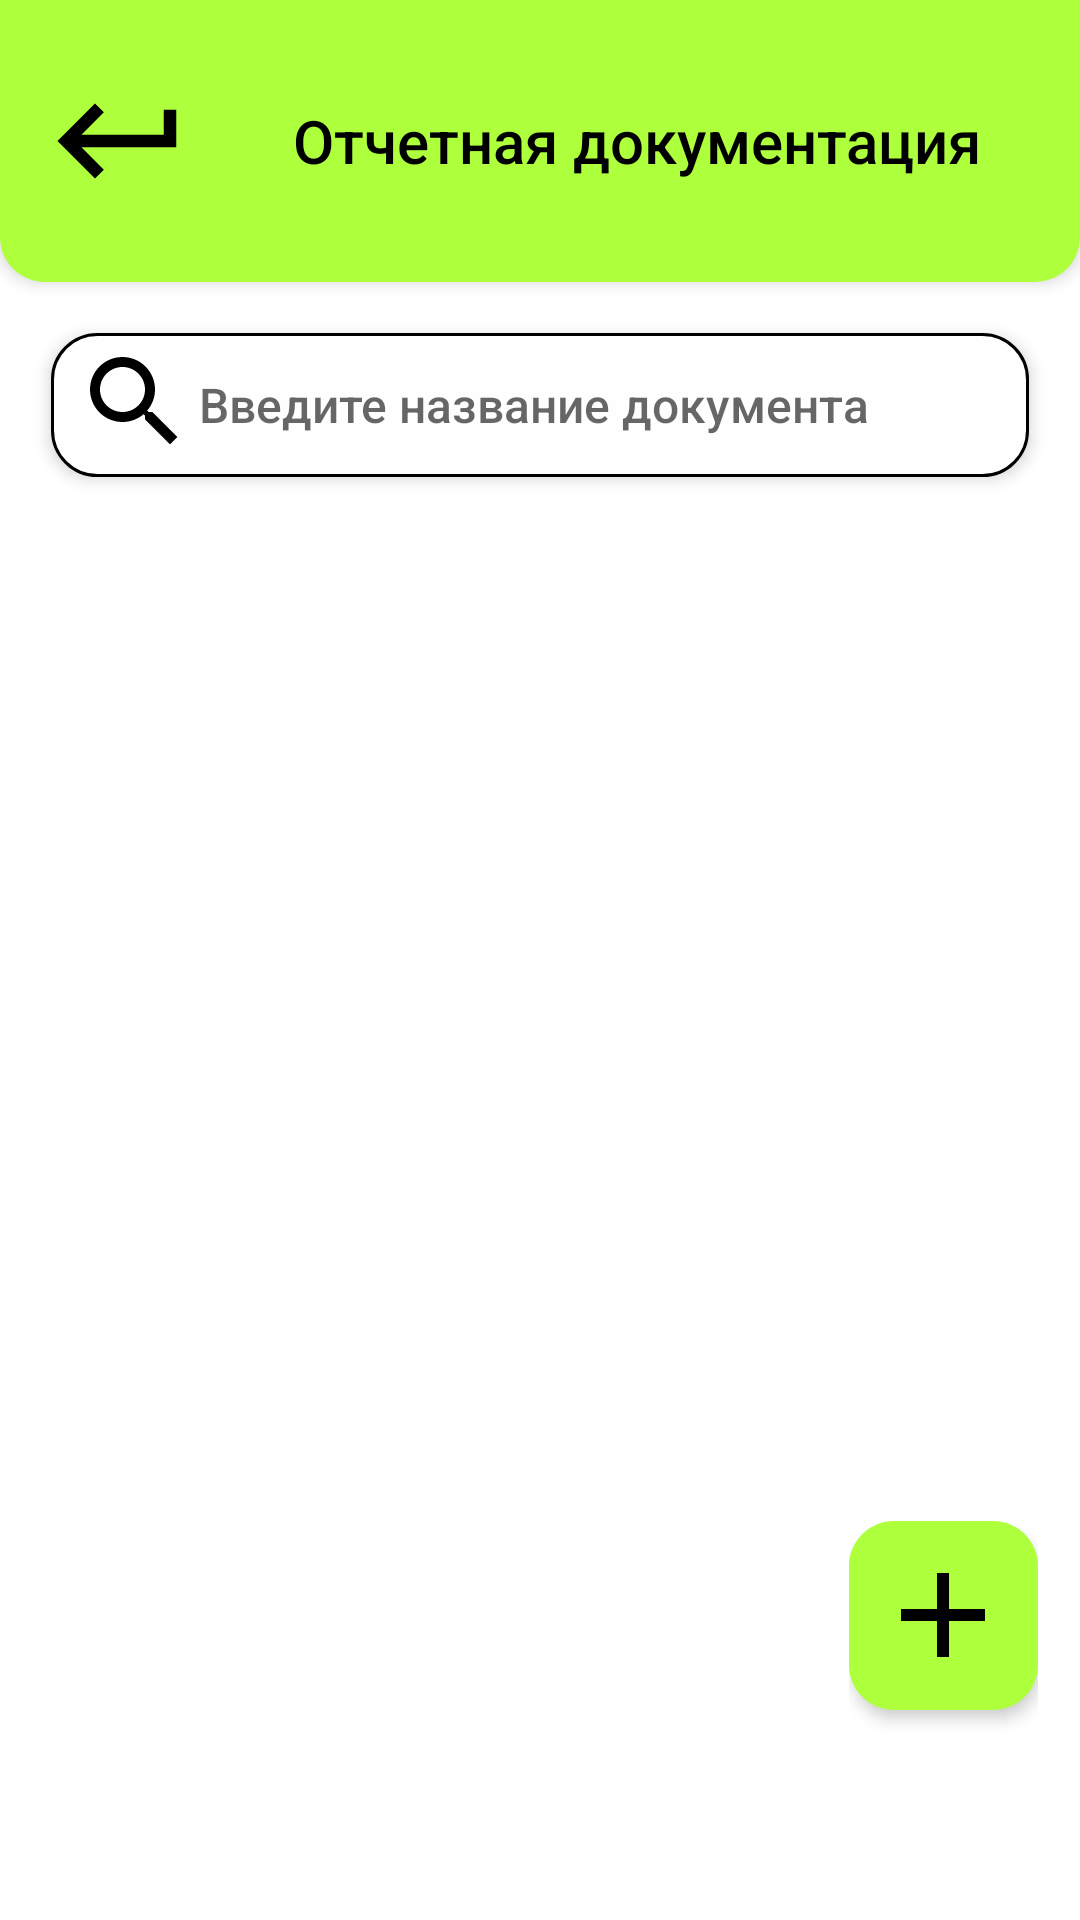

Named icons in this screenshot (1080×1920) and their bounding boxes, [x1=x1, y1=y1, x2=x2, y2=y2]:
Добавление документации: [x1=901, y1=1573, x2=985, y2=1657]
кнопка возврата: [x1=57, y1=103, x2=177, y2=179]
Поиск: [x1=90, y1=357, x2=177, y2=444]
